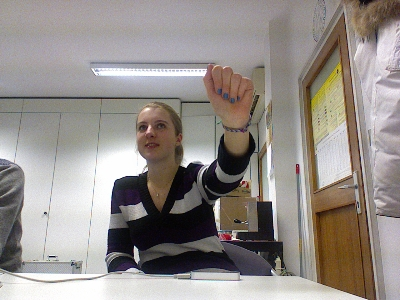石头: (201, 62, 255, 123)
